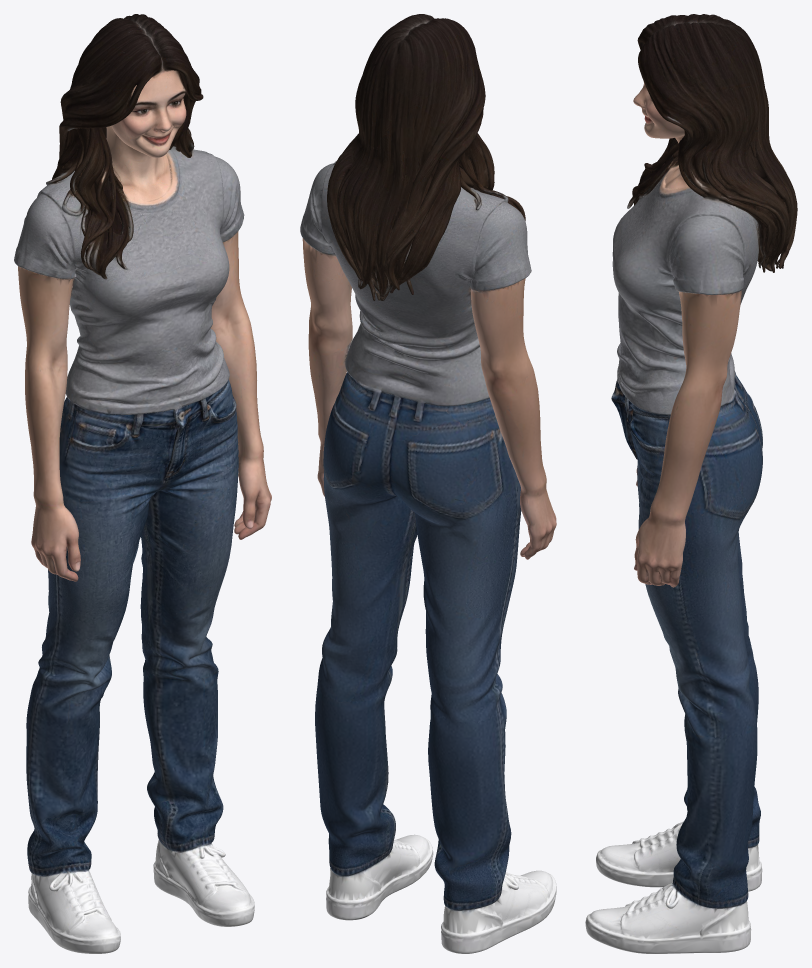
File: mannequin.glb
The picture shows the model from 3 angles, left to right: view 1: azimuth 30°, elevation 25°; view 2: azimuth 150°, elevation 25°; view 3: azimuth 270°, elevation 25°; orthographic projection.
Size of the model in its own units: 0.514 by 1.9 by 0.407.
Materials: 1 (1 with a texture image).
